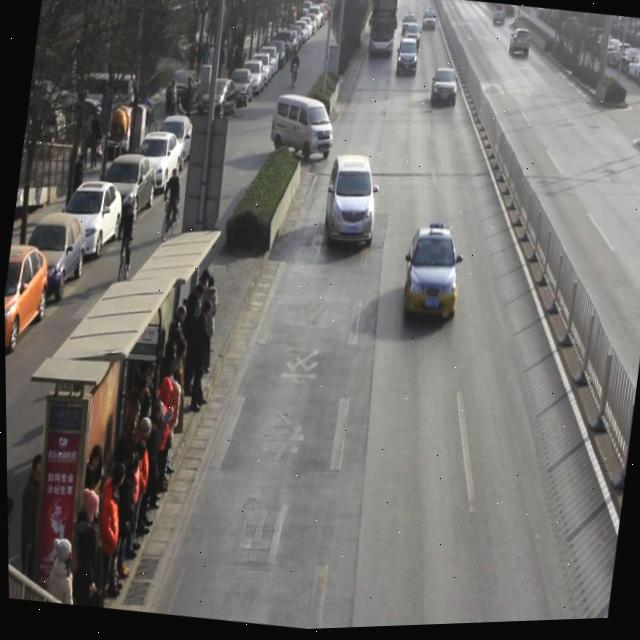car: (398, 225, 466, 327), (320, 153, 383, 254), (429, 67, 461, 113), (394, 39, 422, 81)
